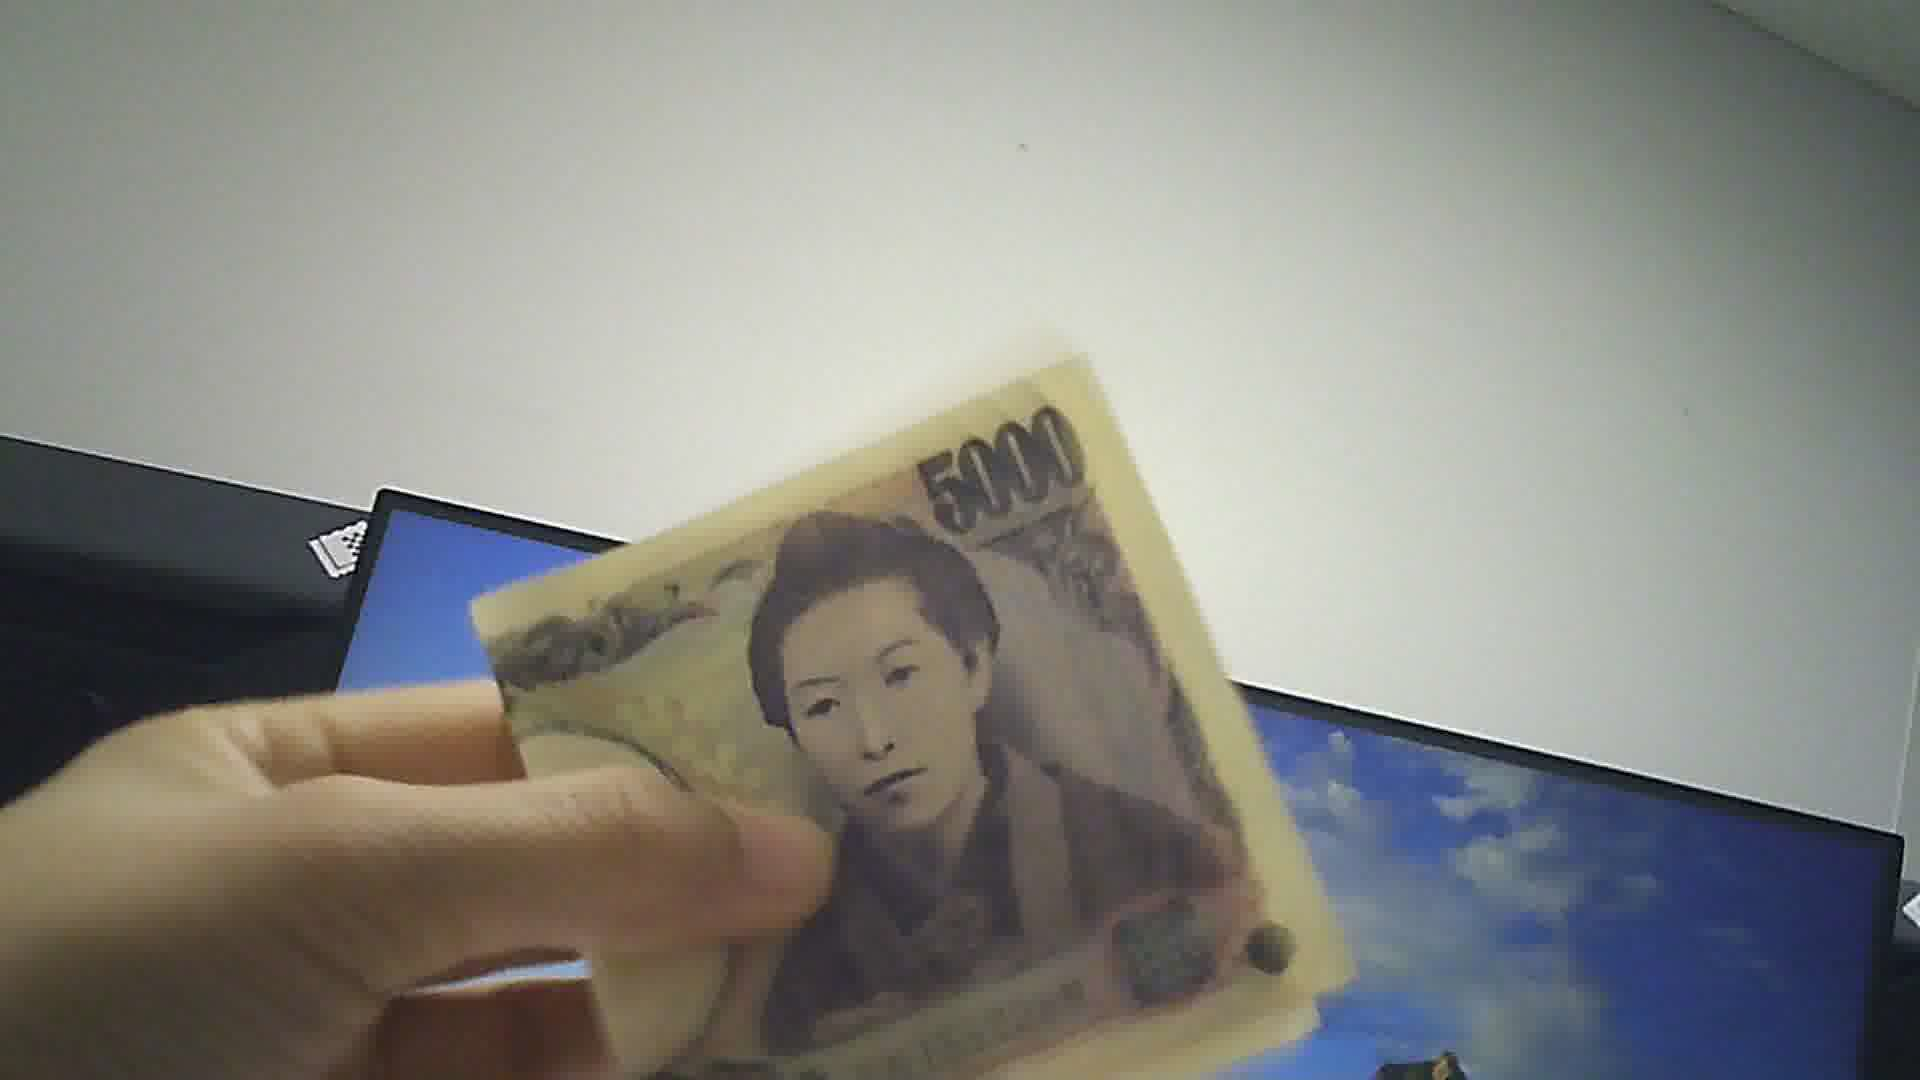5,000 Yen: (464, 355, 1328, 1072)
